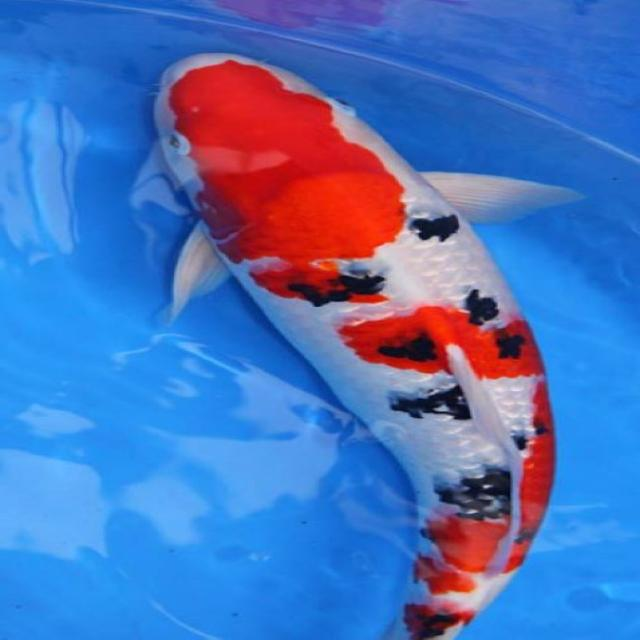Sanke: (138, 51, 581, 639)
